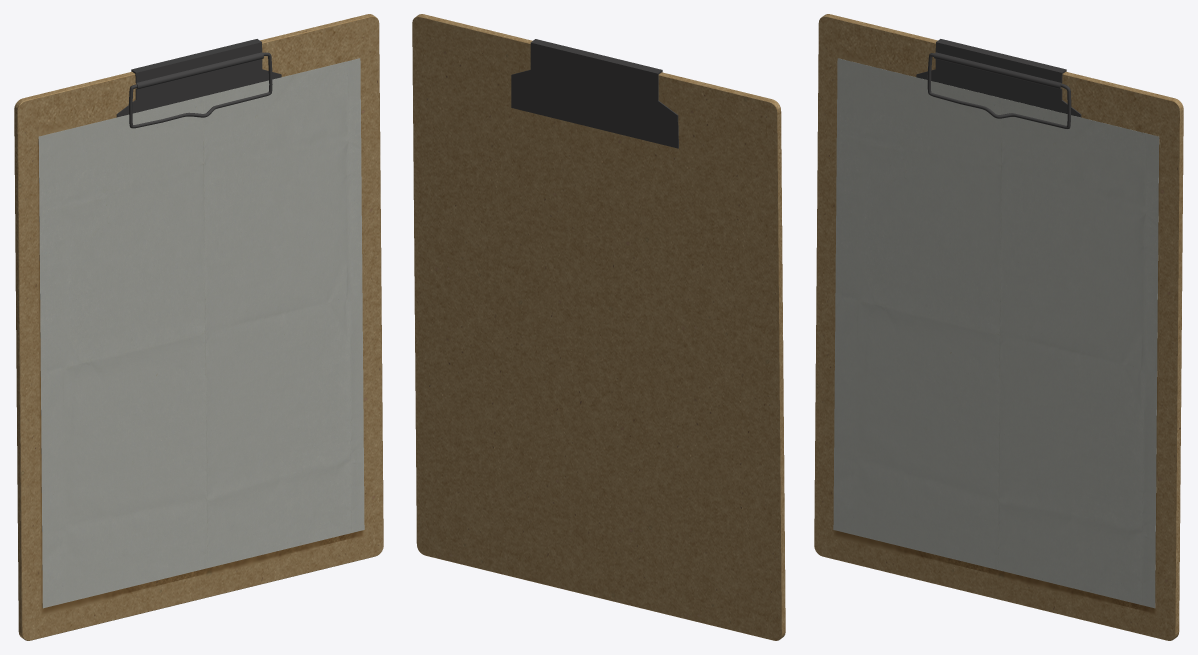
Rendered from Clip.glb.
3 renders of one model, left to right at view 1: azimuth 30°, elevation 25°; view 2: azimuth 150°, elevation 25°; view 3: azimuth 330°, elevation 25°, orthographic.
Visible parts, largest first — view 1: page, board_1, Sweep; view 2: board_1, Sweep; view 3: page, board_1, Sweep.
Part boxes in pixels (<box>): page: <box>38,58,364,608</box>; board_1: <box>14,14,383,640</box>; Sweep: <box>116,39,281,128</box>; board_1: <box>412,14,785,640</box>; Sweep: <box>511,39,678,148</box>; page: <box>833,58,1159,608</box>; board_1: <box>814,14,1183,640</box>; Sweep: <box>916,39,1081,128</box>.
Bounding box in the file's own units: 2.67 × 3.8 × 0.1236.
3 materials, 2 textured.
